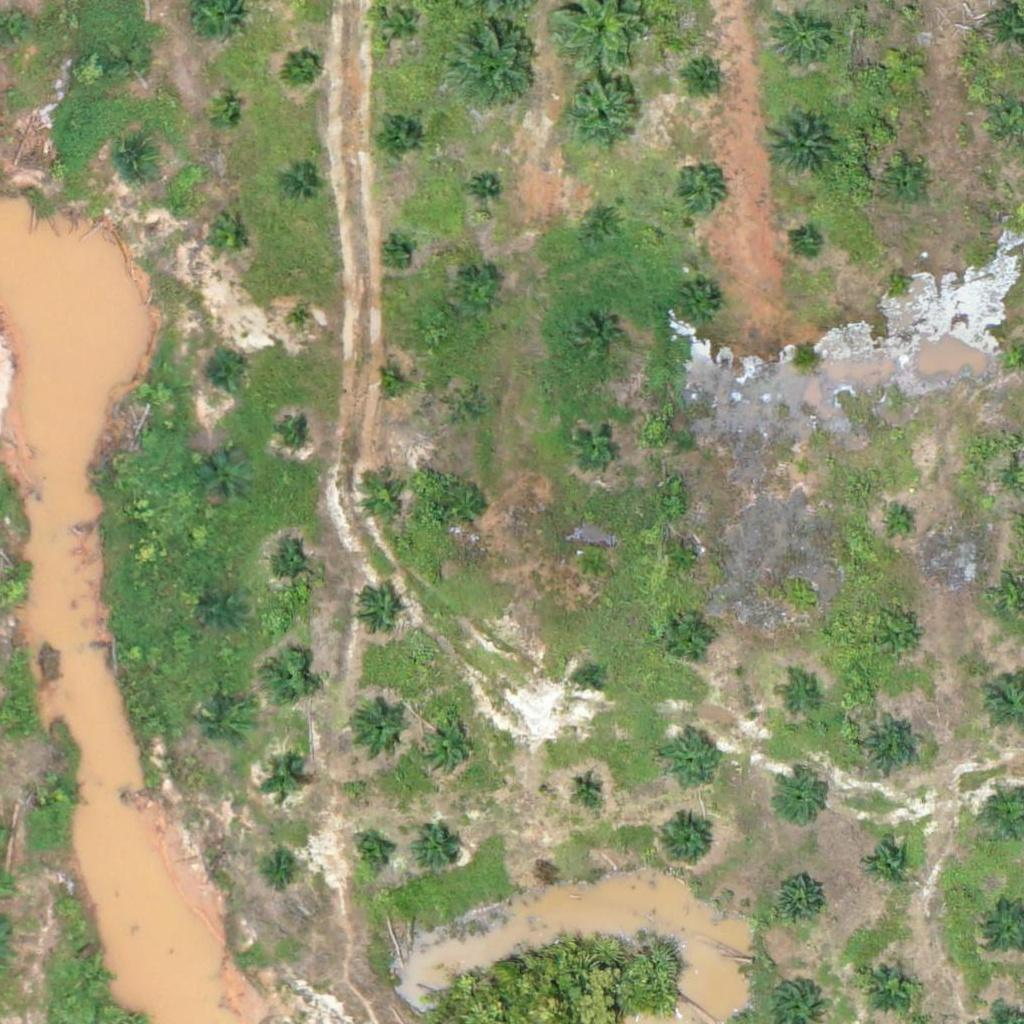Kelapa_Sawit: (558, 71, 646, 159), (449, 20, 537, 108), (764, 107, 839, 183), (861, 714, 924, 777), (415, 715, 478, 778), (772, 9, 834, 72), (655, 811, 717, 874), (859, 953, 921, 1016), (659, 729, 721, 792), (349, 697, 411, 760), (445, 480, 495, 531), (775, 773, 825, 824), (772, 874, 822, 925), (863, 838, 913, 889), (665, 610, 715, 661), (878, 40, 928, 91), (358, 474, 408, 525), (204, 213, 254, 264), (884, 161, 934, 211), (266, 545, 316, 595), (264, 654, 314, 704), (353, 587, 403, 637), (413, 823, 463, 873), (673, 167, 723, 217), (676, 281, 726, 331), (573, 420, 623, 470), (573, 313, 623, 363), (580, 199, 630, 249), (453, 269, 503, 319), (372, 109, 422, 159), (200, 453, 250, 503), (202, 704, 252, 754), (778, 679, 816, 717), (73, 958, 111, 996), (263, 759, 301, 797), (264, 850, 302, 888), (351, 833, 389, 871), (204, 354, 242, 392), (883, 622, 920, 660), (570, 770, 607, 808), (41, 772, 78, 810), (574, 546, 612, 583), (448, 391, 486, 428), (207, 98, 245, 135), (204, 592, 241, 630), (114, 44, 152, 81), (287, 46, 324, 84), (667, 540, 704, 578), (283, 170, 320, 207), (115, 142, 152, 179), (793, 230, 818, 256), (998, 341, 1023, 366), (886, 512, 911, 537), (886, 268, 911, 293), (576, 667, 601, 692), (384, 240, 409, 265), (377, 370, 402, 395), (289, 309, 314, 334), (283, 421, 308, 446), (694, 66, 719, 91), (792, 457, 817, 482), (472, 176, 496, 201)
